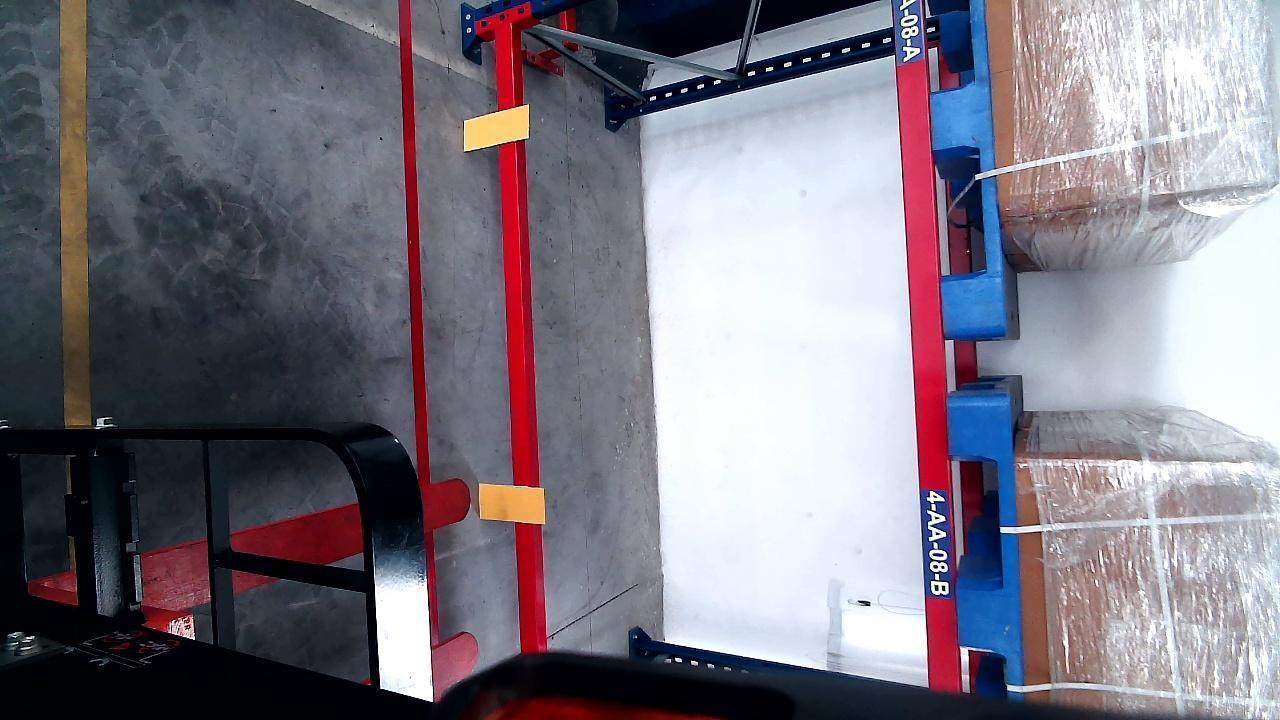red_line: (399, 0, 434, 474)
yellow_line: (58, 0, 93, 425)
